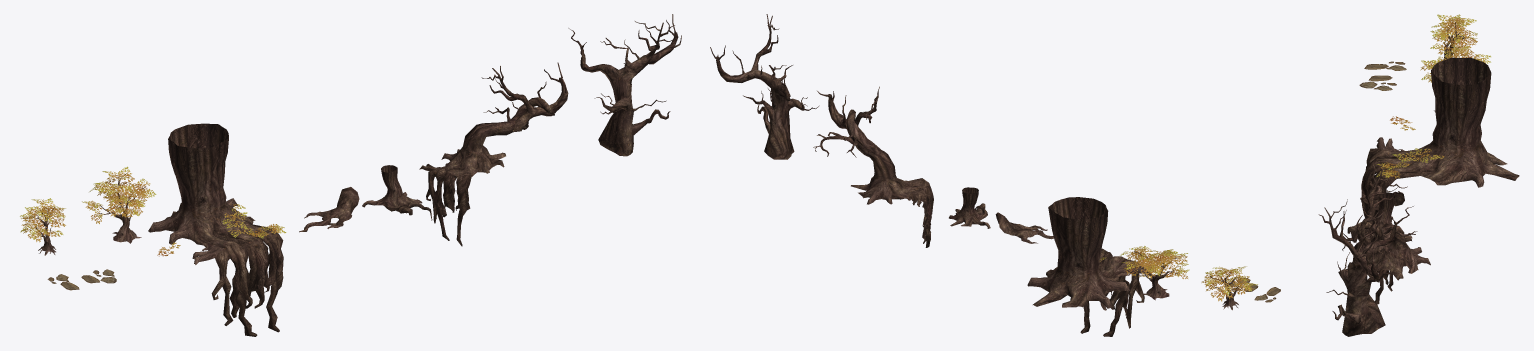
File: d_1156_Tree01.FBX
3 renders of one model, left to right at view 1: azimuth 30°, elevation 25°; view 2: azimuth 150°, elevation 25°; view 3: azimuth 270°, elevation 25°, orthographic. The views are drawn at different scales.
Visible parts, largest first — view 1: YSY_wj_shugen_001, XJLD_wj_shu_002, XJLD_wj_shu_001, YSY_zb_hongyeshu_002, MWCL_wj_shugen_001, YSY_zb_hongyeshu_004, MWCL_wj_shugan_001, YSY_zb_hongyeshu_001; view 2: YSY_wj_shugen_001, XJLD_wj_shu_002, XJLD_wj_shu_001, YSY_zb_hongyeshu_002, YSY_zb_hongyeshu_004, MWCL_wj_shugen_001, MWCL_wj_shugan_001, YSY_zb_hongyeshu_001; view 3: YSY_wj_shugen_001, XJLD_wj_shu_001, XJLD_wj_shu_002, YSY_zb_hongyeshu_004, YSY_zb_hongyeshu_002, MWCL_wj_shugen_001, YSY_zb_hongye_001, MWCL_wj_shugan_001, YSY_dm_shitou_005, YSY_zb_hongyeshu_003.
Boxes of the visible parts, x1,y1,x2,y2 form: YSY_wj_shugen_001: (148,123,283,336); XJLD_wj_shu_002: (419,62,568,246); XJLD_wj_shu_001: (568,14,681,156); YSY_zb_hongyeshu_002: (82,166,156,223); MWCL_wj_shugen_001: (362,165,432,220); YSY_zb_hongyeshu_004: (20,198,65,242); MWCL_wj_shugan_001: (299,187,359,232); YSY_zb_hongyeshu_001: (98,173,145,243); YSY_wj_shugen_001: (1027,197,1156,336); XJLD_wj_shu_002: (813,86,933,247); XJLD_wj_shu_001: (710,14,819,159); YSY_zb_hongyeshu_002: (1120,246,1189,278); YSY_zb_hongyeshu_004: (1201,266,1257,301); MWCL_wj_shugen_001: (949,187,990,228); MWCL_wj_shugan_001: (995,212,1053,243); YSY_zb_hongyeshu_001: (1134,251,1177,300); YSY_wj_shugen_001: (1361,57,1519,222); XJLD_wj_shu_001: (1318,199,1413,336); XJLD_wj_shu_002: (1350,163,1430,304); YSY_zb_hongyeshu_004: (1430,14,1477,55); YSY_zb_hongyeshu_002: (1420,46,1490,82); MWCL_wj_shugen_001: (1342,192,1395,250); YSY_zb_hongye_001: (1392,148,1444,167); MWCL_wj_shugan_001: (1360,181,1404,210); YSY_dm_shitou_005: (1364,61,1406,70); YSY_zb_hongyeshu_003: (1443,22,1464,60).
Bounding box in the file's own units: 5629 × 2071 × 1508.
2 materials, 2 textured.
